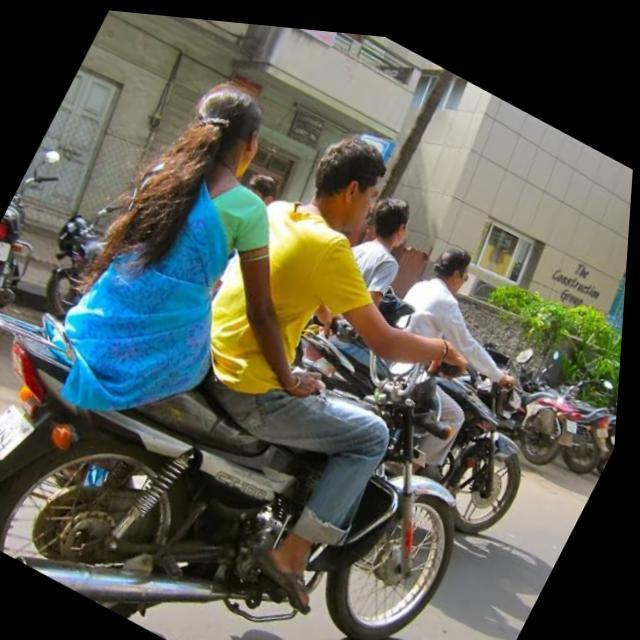Nonhelmet: (306, 121, 395, 232), (188, 77, 265, 182), (370, 186, 420, 252), (432, 239, 476, 297)
